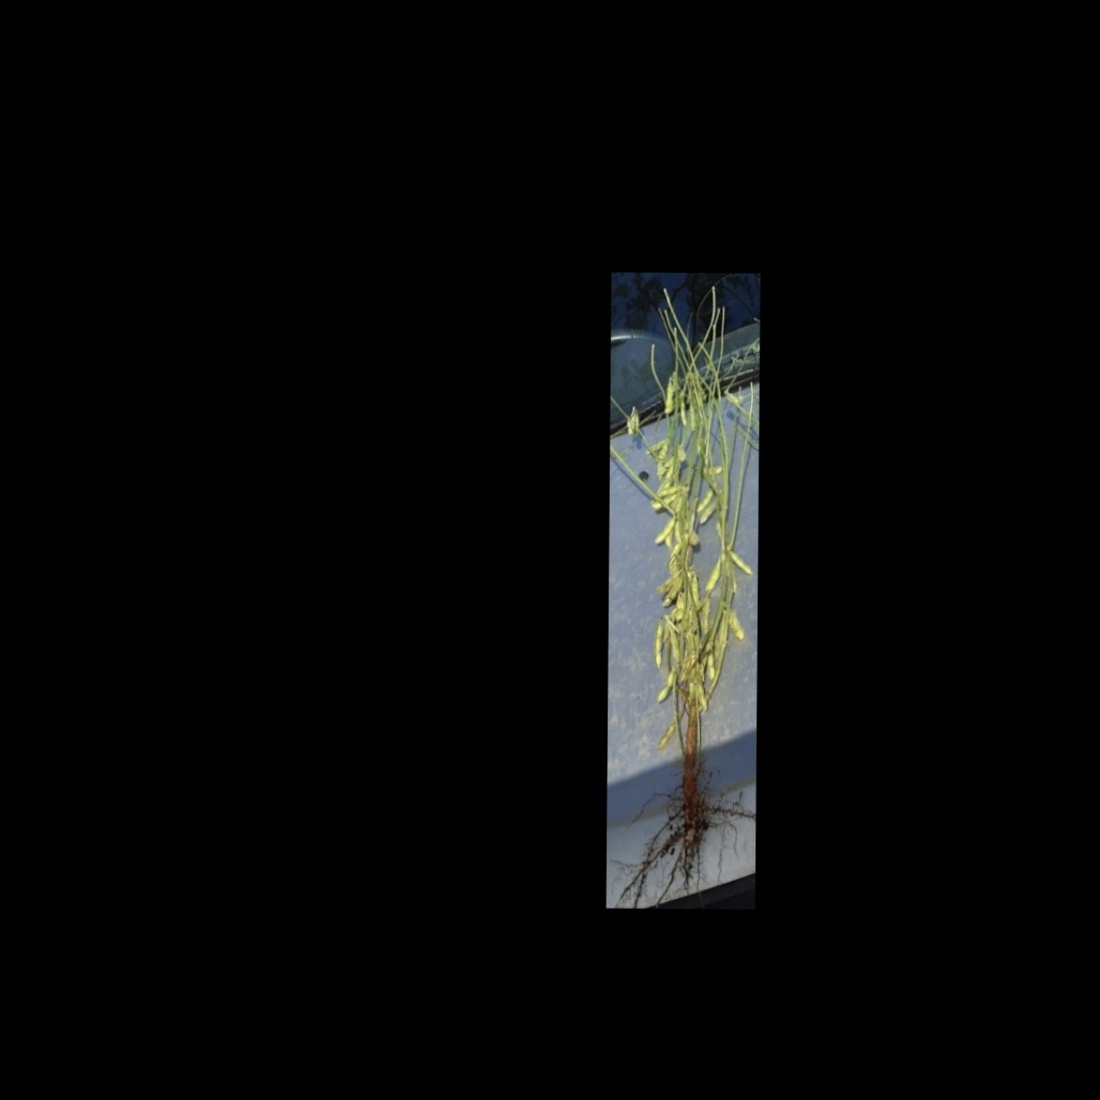pod: (702, 553, 724, 597), (651, 671, 675, 708), (654, 719, 678, 753), (652, 516, 678, 546), (652, 617, 666, 673), (661, 380, 675, 416), (695, 488, 713, 514)
soy: (610, 322, 757, 882)
